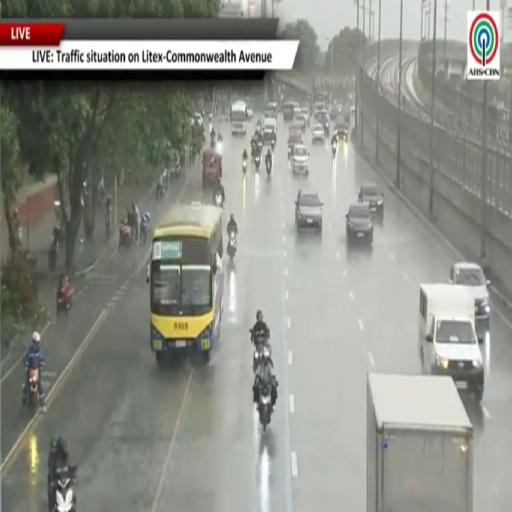bus: (147, 204, 223, 363), (230, 101, 248, 134)
car: (449, 262, 490, 342), (295, 189, 323, 232), (346, 203, 373, 245), (358, 183, 383, 219), (292, 144, 309, 174), (315, 110, 330, 133), (263, 118, 276, 143), (333, 120, 348, 141), (294, 111, 307, 132), (312, 123, 325, 143), (265, 103, 278, 118), (330, 105, 341, 120), (314, 101, 326, 114), (193, 112, 203, 124), (301, 107, 309, 122), (247, 108, 253, 119)
motorcycle: (54, 467, 76, 511), (250, 330, 271, 372), (258, 382, 272, 431), (27, 366, 40, 408), (57, 282, 74, 314), (119, 222, 133, 249), (48, 240, 58, 271), (141, 213, 150, 244), (227, 231, 236, 260), (53, 199, 62, 220), (156, 183, 164, 200), (215, 191, 223, 207), (254, 152, 261, 170), (251, 141, 257, 158), (257, 138, 263, 153), (243, 159, 247, 173), (332, 143, 336, 157), (271, 139, 275, 152), (267, 162, 271, 175), (211, 139, 215, 149)
truck: (367, 373, 473, 511), (419, 283, 484, 402)
